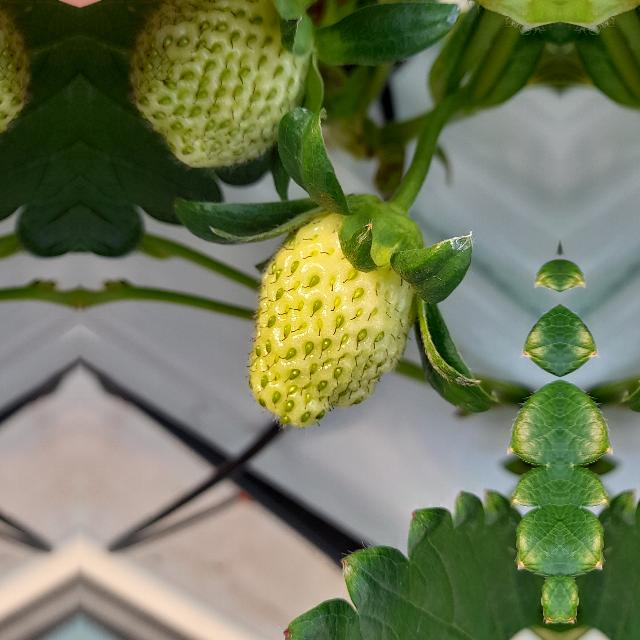Health_25: (245, 212, 417, 430), (127, 0, 327, 172)
